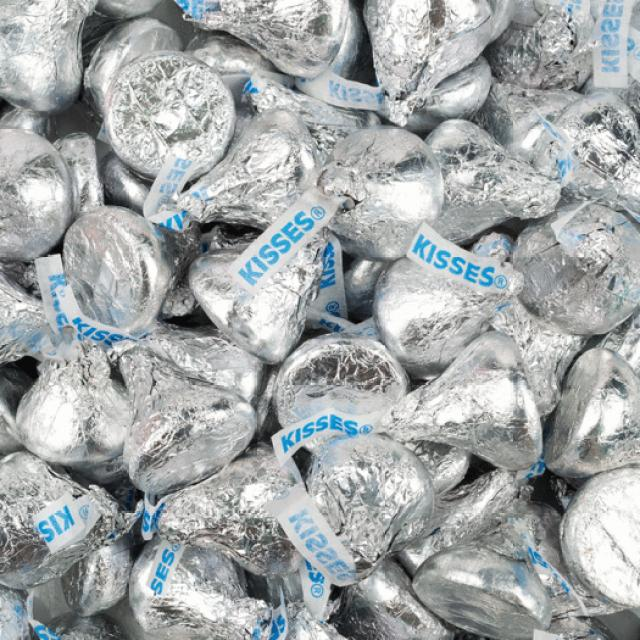kisses: (144, 433, 312, 581), (119, 337, 262, 500), (356, 245, 526, 376), (290, 431, 436, 578), (405, 497, 554, 640), (420, 109, 561, 260), (390, 332, 544, 470), (0, 444, 135, 595), (173, 106, 330, 232), (110, 525, 282, 640), (367, 0, 509, 137), (188, 228, 334, 360), (15, 306, 132, 469), (516, 191, 640, 340), (104, 49, 238, 184), (56, 200, 177, 341), (326, 120, 442, 263), (258, 325, 410, 434), (178, 0, 359, 85), (0, 118, 88, 269), (554, 463, 640, 611), (540, 81, 640, 200), (554, 342, 640, 477), (0, 0, 86, 123)
